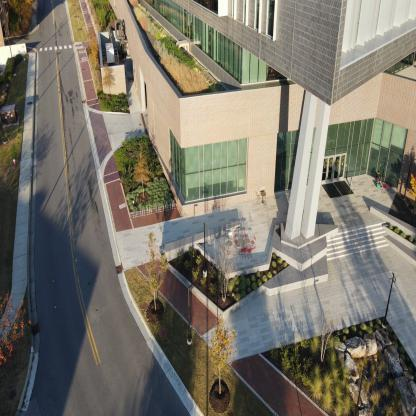Fitts- Woolard: (88, 0, 416, 338)
